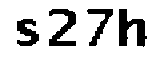2: (47, 6, 80, 50)
7: (84, 8, 113, 52)
h: (117, 6, 148, 51)
s: (13, 16, 39, 50)
